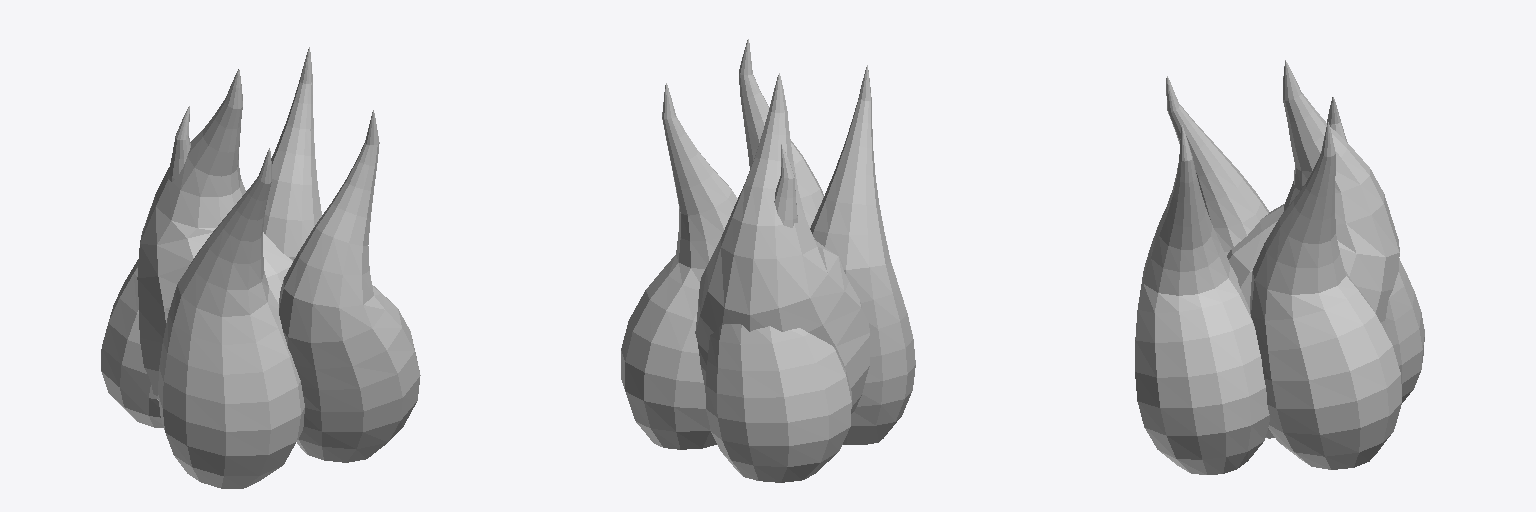
The model's file is fire_000019.obj.
3 views of the same model, side by side, from view 1: azimuth 30°, elevation 25°; view 2: azimuth 150°, elevation 25°; view 3: azimuth 270°, elevation 25° (orthographic).
Parts seen in each view (by area): view 1: flame_NurbsPath.015; view 2: flame_NurbsPath.015; view 3: flame_NurbsPath.015.
Boxes of the visible parts, x1=… form: flame_NurbsPath.015: x1=101, y1=47, x2=420, y2=488; flame_NurbsPath.015: x1=621, y1=39, x2=915, y2=482; flame_NurbsPath.015: x1=1135, y1=60, x2=1424, y2=474.
Bounding box in the file's own units: 0.7534 × 1.17 × 0.8122.